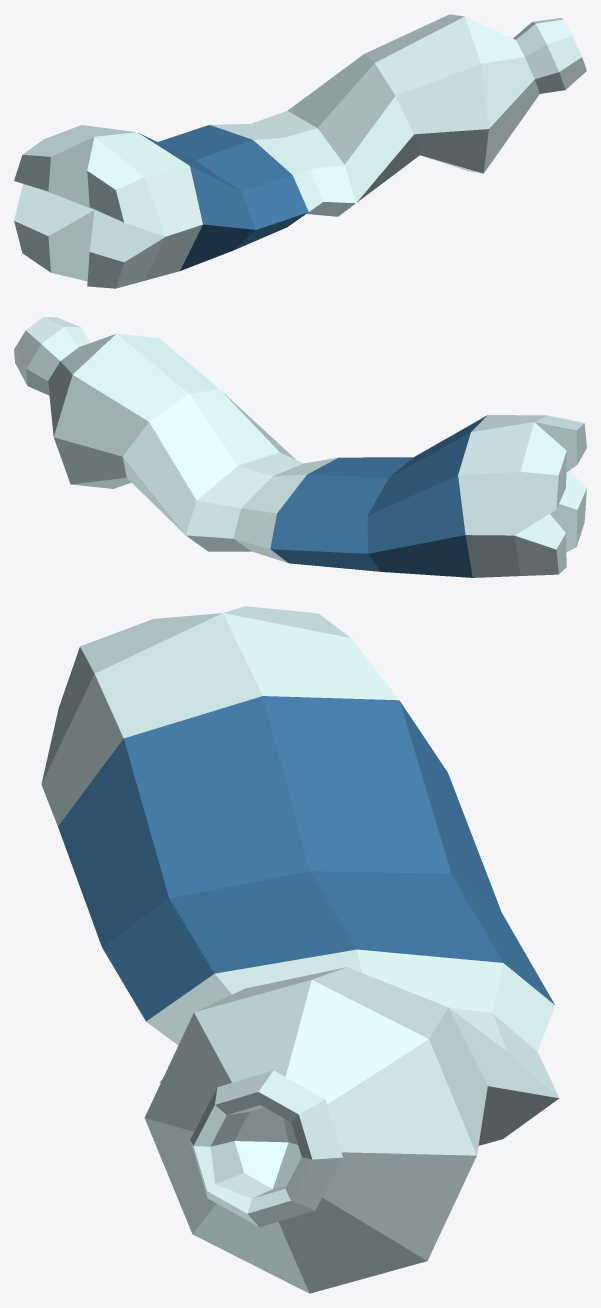
The model's file is water-bottle-crushed.glb.
3 views of the same model, one above another, from view 1: azimuth 30°, elevation 25°; view 2: azimuth 150°, elevation 25°; view 3: azimuth 270°, elevation 25° (orthographic). The views are drawn at different scales.
Visible parts, largest first — view 1: water-bottle-crushed; view 2: water-bottle-crushed; view 3: water-bottle-crushed.
Part boxes in pixels (x1,y1,x2,y2): water-bottle-crushed: (14, 14, 586, 288); water-bottle-crushed: (14, 317, 586, 577); water-bottle-crushed: (41, 606, 559, 1293).
Bounding box in the file's own units: 0.4942 × 0.1376 × 0.2017.
Materials: 1 (1 with a texture image).
